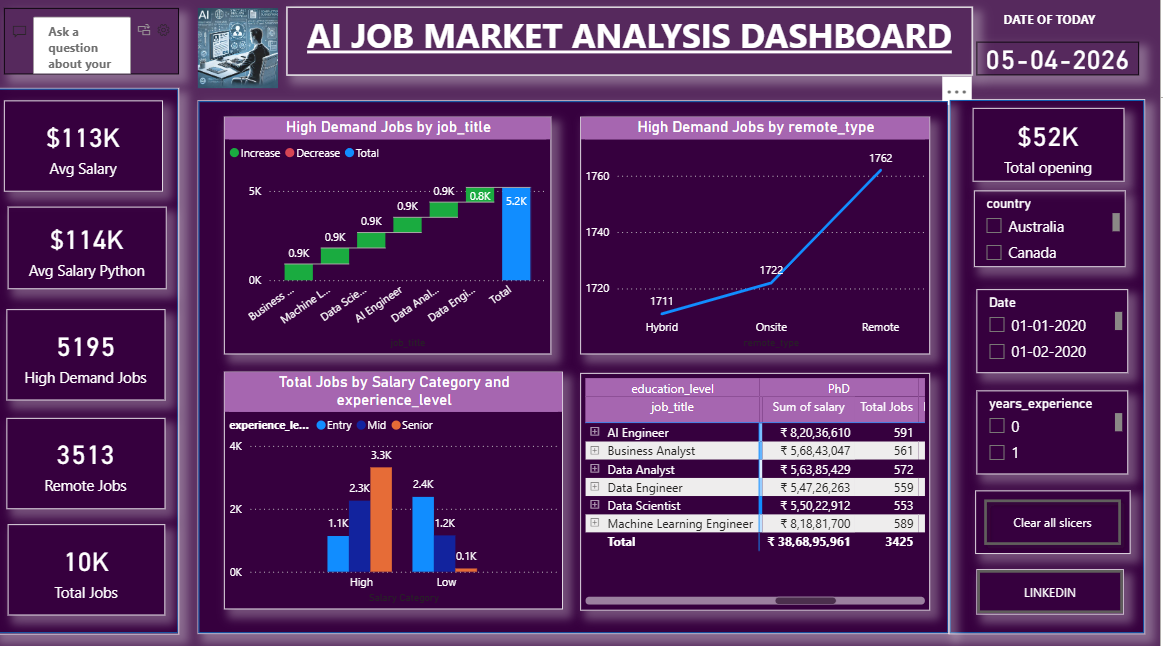

The page's visual inventory and layout, read from the dashboard file:
{"tool":"powerbi","page":{"name":"Page 1","canvas":[1280,720],"ordinal":0},"visuals":[{"type":"shape","box":[0,104.3,203.1,599.7],"z":0},{"type":"card","fields":{"Values":["My Dax Function.Avg Salary"]},"box":[11,118,174.3,100.2],"z":1000},{"type":"textbox","box":[321.1,15.1,753.3,75.5],"z":2000},{"type":"card","fields":{"Values":["My Dax Function.Avg Salary Python"]},"box":[15.1,234.6,174.3,90.6],"z":3000},{"type":"card","fields":{"Values":["My Dax Function.Remote Jobs"]},"box":[13.7,466.6,174.3,100.2],"z":4000},{"type":"card","fields":{"Values":["My Dax Function.High Demand Jobs"]},"box":[13.7,347.2,174.3,100.2],"z":5000},{"type":"card","fields":{"Values":["My Dax Function.Total Jobs"]},"box":[15.1,583.2,172.9,100.2],"z":6000},{"type":"shape","box":[1048.4,116.6,215.4,587.3],"z":6001},{"type":"card","fields":{"Values":["My Dax Function.Total opening"]},"box":[1074.4,126.2,166,81],"z":6002},{"type":"slicer","fields":{"Values":["AI Job Market Dataset.country"]},"box":[1075.8,216.8,166,83.7],"z":6003},{"type":"slicer","fields":{"Values":["AI Job Market Dataset.Date"]},"box":[1078.6,325.2,166,91.9],"z":6004},{"type":"slicer","fields":{"Values":["AI Job Market Dataset.years_experience"]},"box":[1078.6,436.4,166,91.9],"z":6005},{"type":"actionButton","box":[1077.2,546.1,170.2,70],"z":6006},{"type":"actionButton","box":[1078.6,632.6,161.9,49.4],"z":6007},{"type":"shape","box":[223.7,118,824.7,585.9],"z":6008},{"type":"waterfallChart","fields":{"Category":["AI Job Market Dataset.job_title"],"Y":["My Dax Function.High Demand Jobs"]},"box":[252.5,135.8,359.5,260.7],"z":6009},{"type":"lineChart","fields":{"Category":["AI Job Market Dataset.remote_type","AI Job Market Dataset.job_title"],"Y":["My Dax Function.High Demand Jobs"]},"box":[643.6,135.8,384.2,260.7],"z":6010},{"type":"pivotTable","fields":{"Rows":["AI Job Market Dataset.job_title","AI Job Market Dataset.experience_level"],"Values":["My Dax Function.Remote %","Sum(AI Job Market Dataset.salary)","My Dax Function.Total Jobs"],"Columns":["AI Job Market Dataset.education_level"]},"box":[643.6,417.2,384.2,260.7],"z":6011},{"type":"clusteredColumnChart","fields":{"Category":["AI Job Market Dataset.Salary Category"],"Y":["My Dax Function.Total Jobs"],"Series":["AI Job Market Dataset.experience_level"]},"box":[252.5,415.8,371.9,260.7],"z":6012},{"type":"card","fields":{"Values":["My Dax Function.TODAY"]},"box":[1078.6,53.5,178.4,37],"z":6013},{"type":"textbox","box":[1103.3,15.1,127.6,28.8],"z":6014},{"type":"qnaVisual","box":[11,16.5,192.1,72.7],"z":6015},{"type":"image","box":[189.4,16.5,156.4,87.8],"z":6016}]}

Visuals, with their boxes in screenshot pixels (x1, y1, x2, y2), scaled from the page's 1280x720 canvas onto the 1163x646 screenshot:
shape: 0,94,185,632
card - My Dax Function.Avg Salary: 10,106,168,196
textbox: 292,14,976,81
card - My Dax Function.Avg Salary Python: 14,210,172,292
card - My Dax Function.Remote Jobs: 12,419,171,509
card - My Dax Function.High Demand Jobs: 12,312,171,401
card - My Dax Function.Total Jobs: 14,523,171,613
shape: 953,105,1148,632
card - My Dax Function.Total opening: 976,113,1127,186
slicer - AI Job Market Dataset.country: 977,195,1128,270
slicer - AI Job Market Dataset.Date: 980,292,1131,374
slicer - AI Job Market Dataset.years_experience: 980,392,1131,474
actionButton: 979,490,1133,553
actionButton: 980,568,1127,612
shape: 203,106,953,632
waterfallChart - AI Job Market Dataset.job_title x My Dax Function.High Demand Jobs: 229,122,556,356
lineChart - AI Job Market Dataset.remote_type x AI Job Market Dataset.job_title: 585,122,934,356
pivotTable - AI Job Market Dataset.job_title x AI Job Market Dataset.experience_level: 585,374,934,608
clusteredColumnChart - AI Job Market Dataset.Salary Category x My Dax Function.Total Jobs: 229,373,567,607
card - My Dax Function.TODAY: 980,48,1142,81
textbox: 1002,14,1118,39
qnaVisual: 10,15,185,80
image: 172,15,314,94
